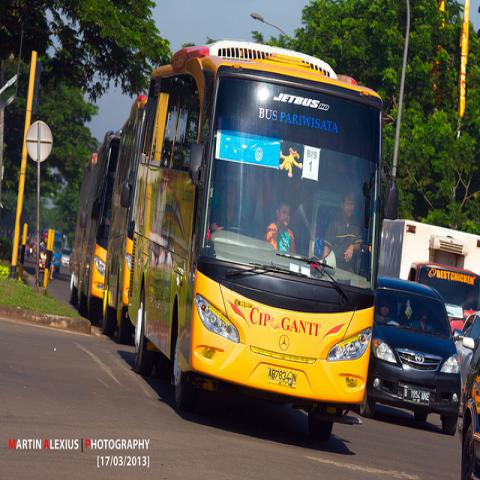bus: (129, 41, 383, 446), (103, 98, 148, 339), (76, 132, 122, 324), (52, 231, 63, 273)
car: (358, 275, 463, 435), (453, 307, 479, 430), (460, 335, 479, 475), (61, 248, 73, 268)
truck: (379, 218, 479, 335)
